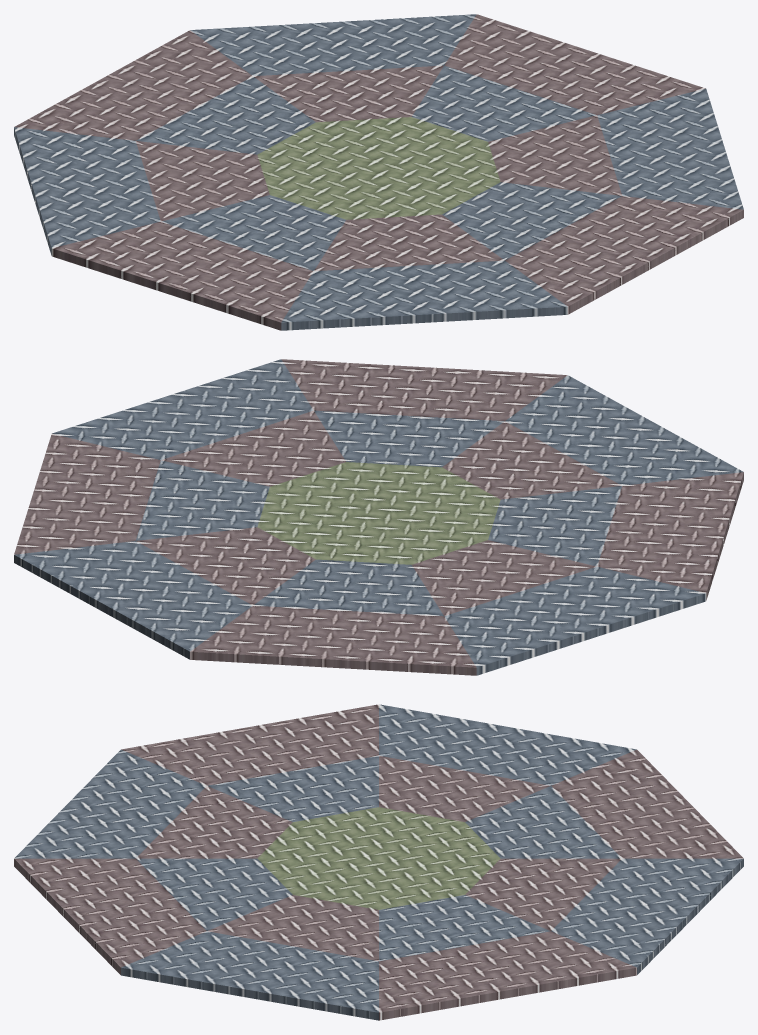
File: FallAway_allMeshes.fbx
3 views of the same model, one above another, from view 1: azimuth 30°, elevation 25°; view 2: azimuth 150°, elevation 25°; view 3: azimuth 270°, elevation 25° (orthographic). The views are drawn at different scales.
Parts seen in each view (by area): view 1: FallAway_Center, FallAway_OR5, FallAway_OR6, FallAway_OR4, FallAway_OR7, FallAway_OR1, FallAway_OR2, FallAway_OR8, FallAway_OR3, FallAway_IR1, FallAway_IR6, FallAway_IR5 (+5 smaller); view 2: FallAway_Center, FallAway_OR8, FallAway_OR7, FallAway_OR1, FallAway_OR6, FallAway_OR4, FallAway_OR3, FallAway_OR5, FallAway_OR2, FallAway_IR4, FallAway_IR7, FallAway_IR8 (+5 smaller); view 3: FallAway_Center, FallAway_OR2, FallAway_OR3, FallAway_OR1, FallAway_OR4, FallAway_OR6, FallAway_OR7, FallAway_OR5, FallAway_OR8, FallAway_IR1, FallAway_IR4, FallAway_IR5 (+5 smaller).
Part boxes in pixels (<box>): FallAway_Center: <box>257,117,500,219</box>; FallAway_OR5: <box>281,260,567,330</box>; FallAway_OR6: <box>51,221,313,330</box>; FallAway_OR4: <box>505,196,743,314</box>; FallAway_OR7: <box>14,127,160,255</box>; FallAway_OR1: <box>190,14,476,76</box>; FallAway_OR2: <box>444,14,705,114</box>; FallAway_OR8: <box>14,30,252,140</box>; FallAway_OR3: <box>597,88,743,209</box>; FallAway_IR1: <box>253,65,443,122</box>; FallAway_IR6: <box>161,195,345,270</box>; FallAway_IR5: <box>314,214,504,271</box>; FallAway_Center: <box>257,462,500,564</box>; FallAway_OR8: <box>190,605,476,675</box>; FallAway_OR7: <box>444,566,706,675</box>; FallAway_OR1: <box>14,541,252,659</box>; FallAway_OR6: <box>597,472,743,600</box>; FallAway_OR4: <box>281,359,567,421</box>; FallAway_OR3: <box>52,359,313,459</box>; FallAway_OR5: <box>505,375,743,485</box>; FallAway_OR2: <box>14,433,160,554</box>; FallAway_IR4: <box>314,410,504,467</box>; FallAway_IR7: <box>412,540,596,615</box>; FallAway_IR8: <box>253,559,443,616</box>; FallAway_Center: <box>257,807,500,909</box>; FallAway_OR2: <box>379,931,636,1020</box>; FallAway_OR3: <box>121,931,378,1020</box>; FallAway_OR1: <box>551,858,743,974</box>; FallAway_OR4: <box>14,858,206,974</box>; FallAway_OR6: <box>121,704,378,785</box>; FallAway_OR7: <box>379,704,636,785</box>; FallAway_OR5: <box>14,749,206,858</box>; FallAway_OR8: <box>551,749,743,858</box>; FallAway_IR1: <box>465,858,621,930</box>; FallAway_IR4: <box>136,858,292,930</box>; FallAway_IR5: <box>136,786,292,858</box>.
Size of the model in its own units: 42 by 0.5 by 42.
